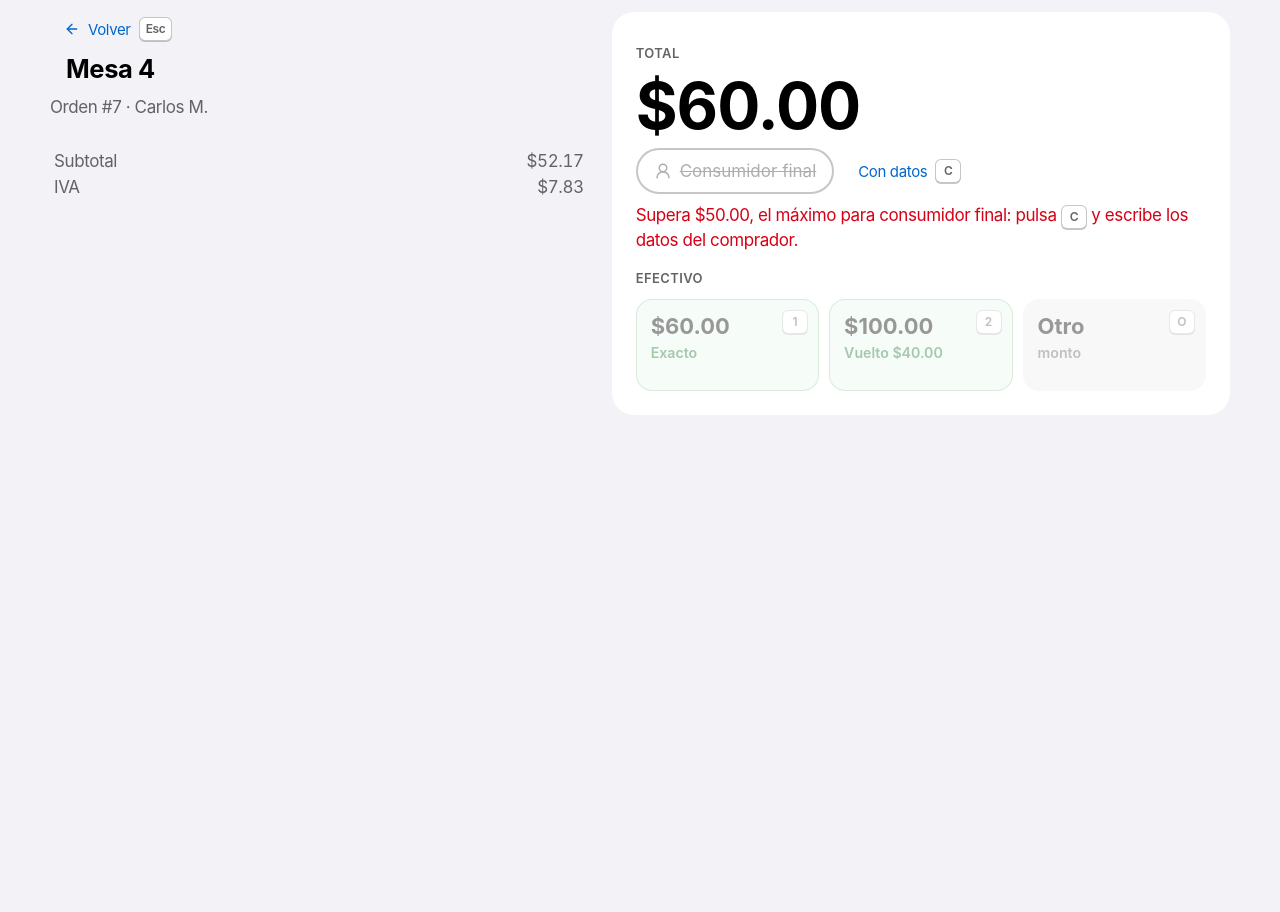
Test: cobro con datos del comprador › sobre el límite: C, cédula de un cliente registrado, autocompleta y cobra a su nombre
The width and height of the screenshot is (1280, 912).
Expected: the text with test id "total" reads "$60.00", [636, 67, 860, 144]
Expected: the button with test id "consumidor-final" is disabled, [636, 148, 834, 194]
Press c
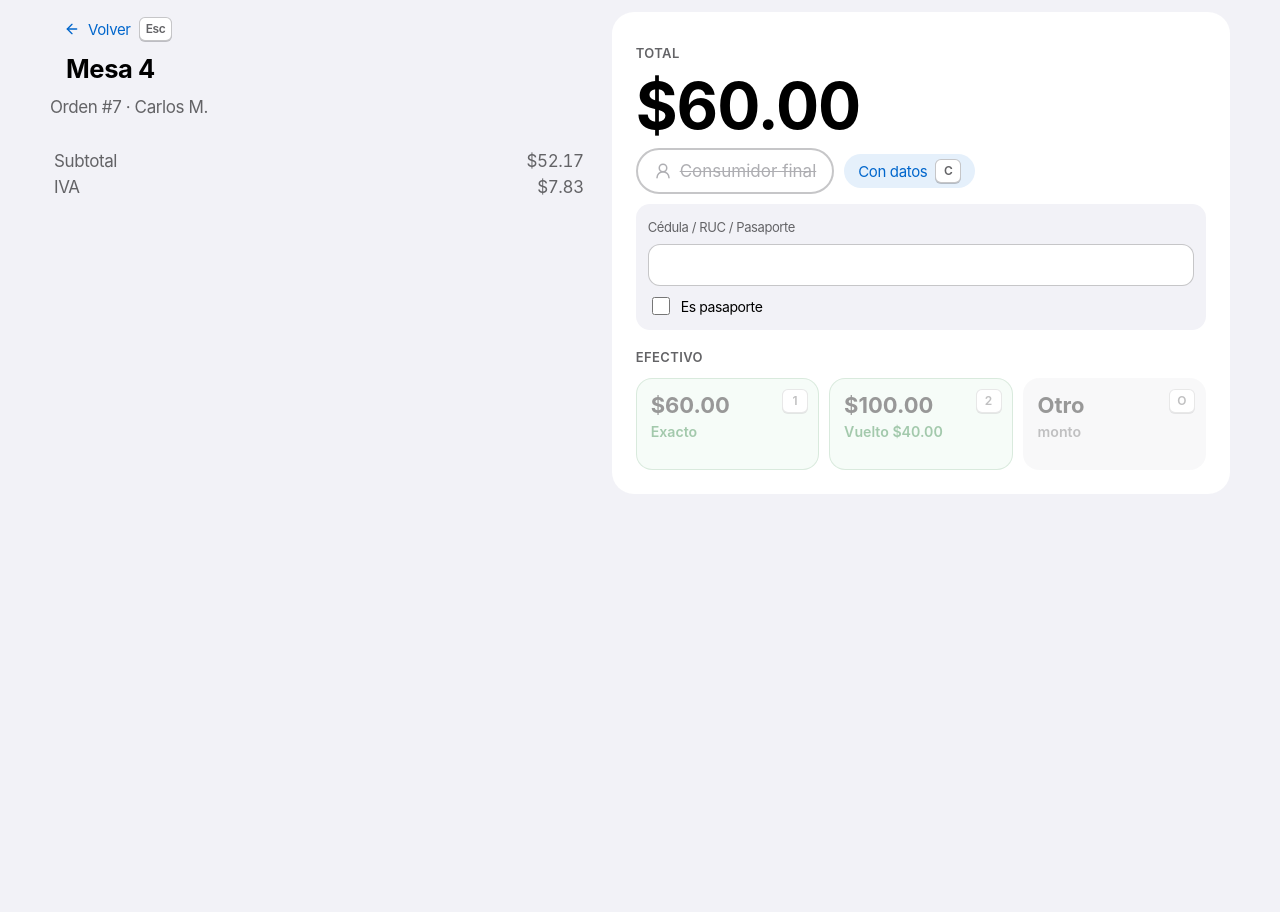
Type "1710034066" into the field with test id "identificacion".
click(921, 265); type("1710034066")  # box [648, 244, 1194, 286]
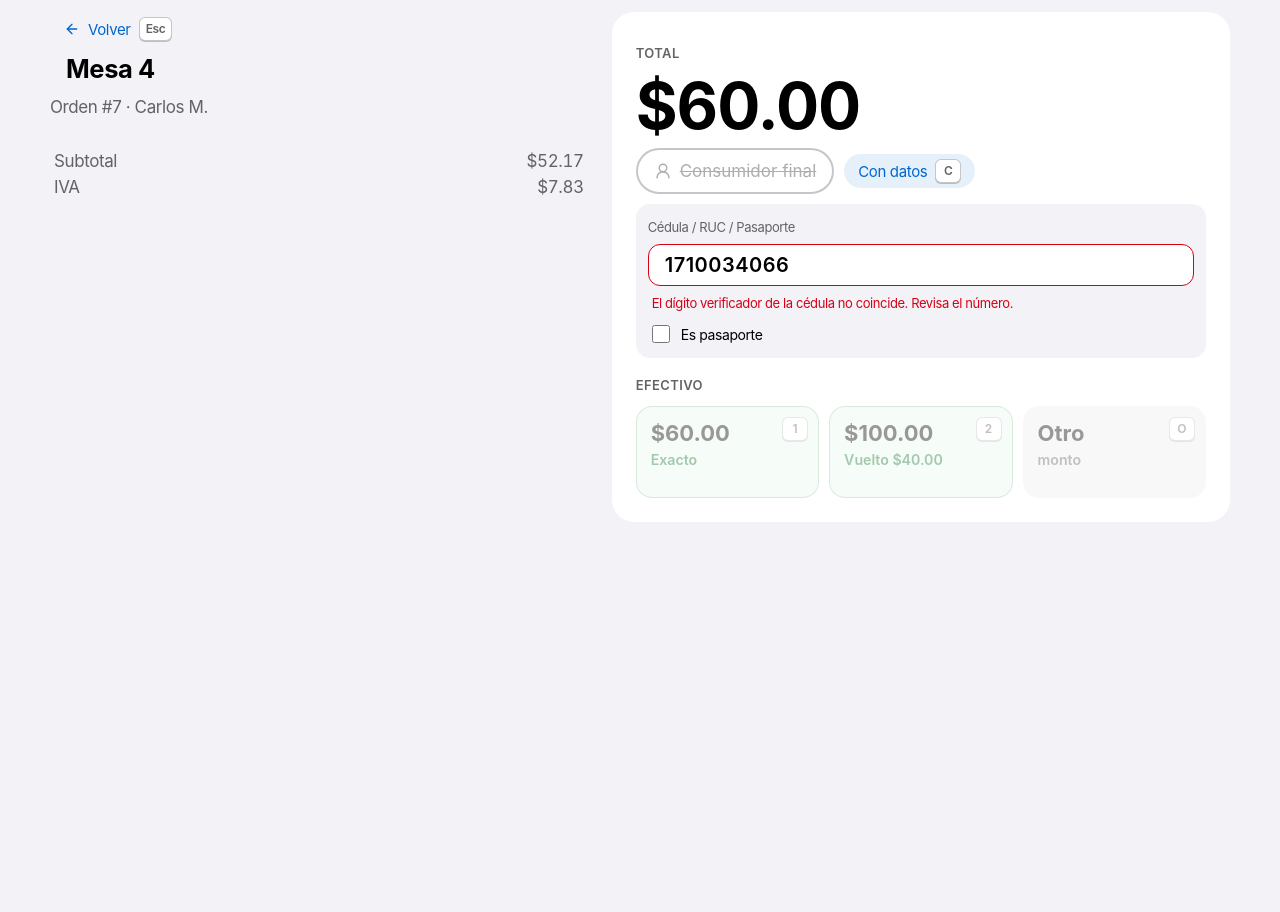
Now the text "verificador" is shown, box [652, 295, 1013, 311]
Replace the text in the field with test id "identificacion" with "1710034065" at (921, 265), box [648, 244, 1194, 286]
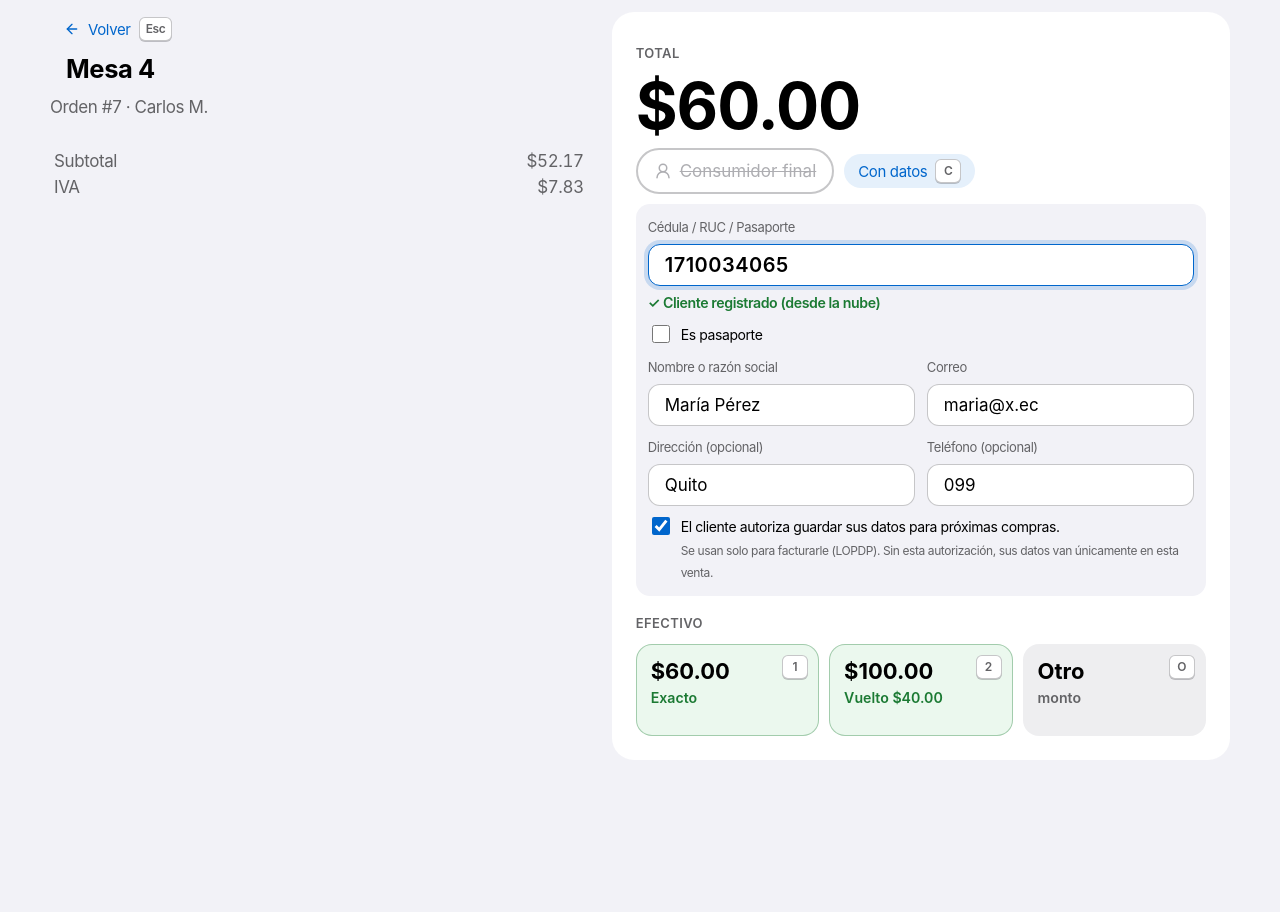
Now the text with test id "origen" shows "desde la nube", box [777, 294, 880, 311]
Now the field with test id "razon-social" holds "María Pérez", box [648, 384, 915, 426]
Now the checkbox with test id "consentimiento" is checked, box [652, 517, 670, 535]
Press Enter in the field with test id "identificacion", box [648, 244, 1194, 286]
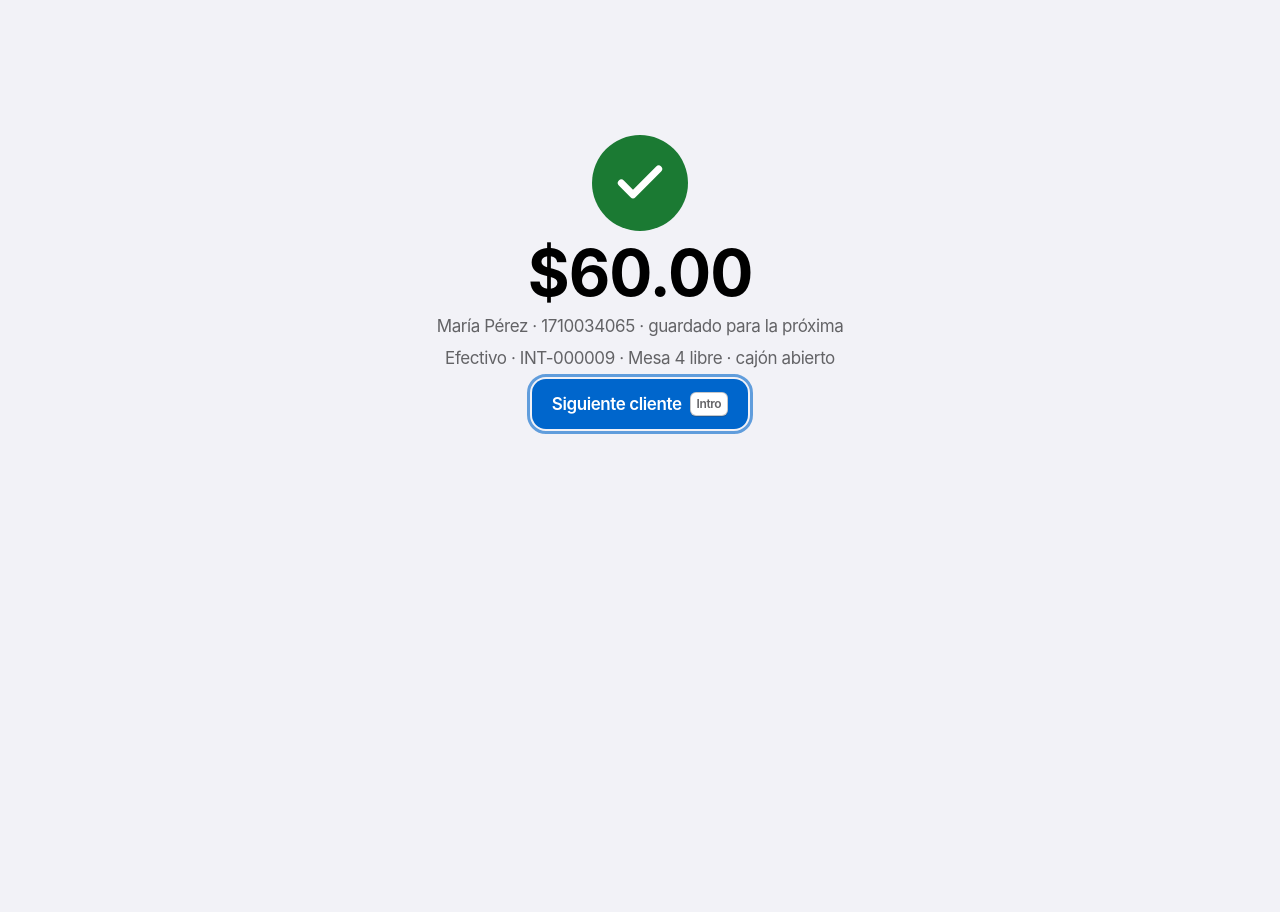
Now the text with test id "comprador-documento" reads "María Pérez · 1710034065 · guardado para la próxima", box [437, 315, 843, 337]
